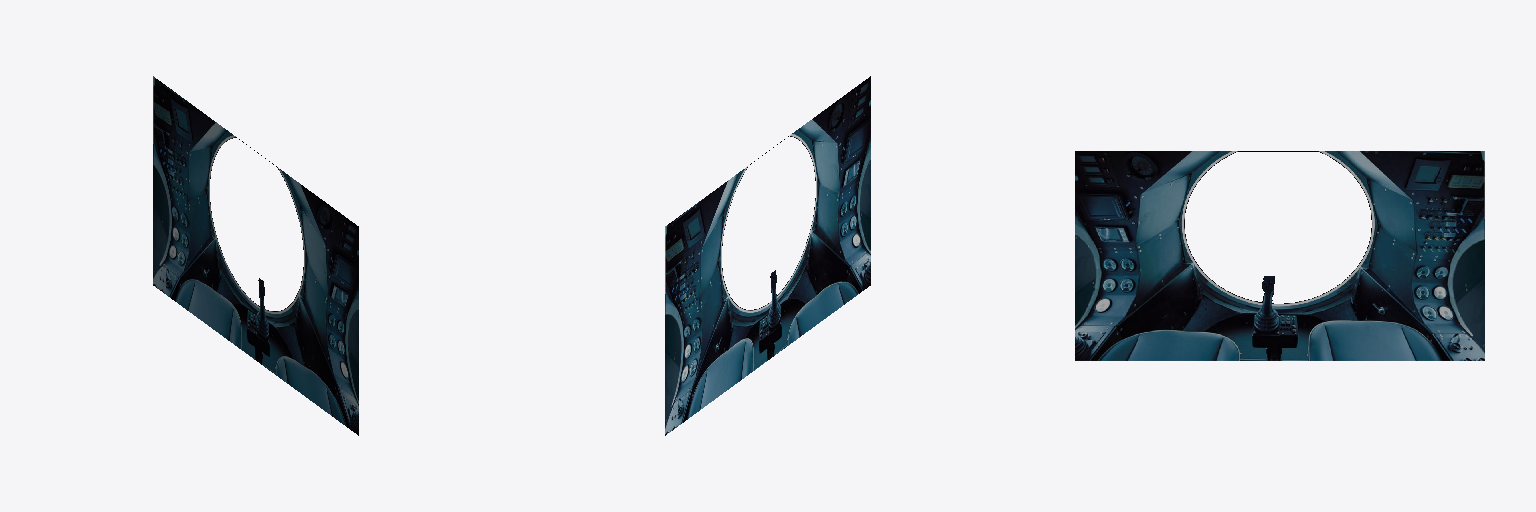
3 views of the same model, side by side, from view 1: azimuth 30°, elevation 25°; view 2: azimuth 150°, elevation 25°; view 3: azimuth 270°, elevation 25° (orthographic).
Parts seen in each view (by area): view 1: Plane; view 2: Plane; view 3: Plane.
Part boxes in pixels (x1,y1,x2,y2): Plane: (153, 76, 358, 435); Plane: (665, 76, 870, 435); Plane: (1075, 151, 1484, 360).
Bounding box in the file's own units: 0 × 18 × 32.
1 materials, 1 textured.